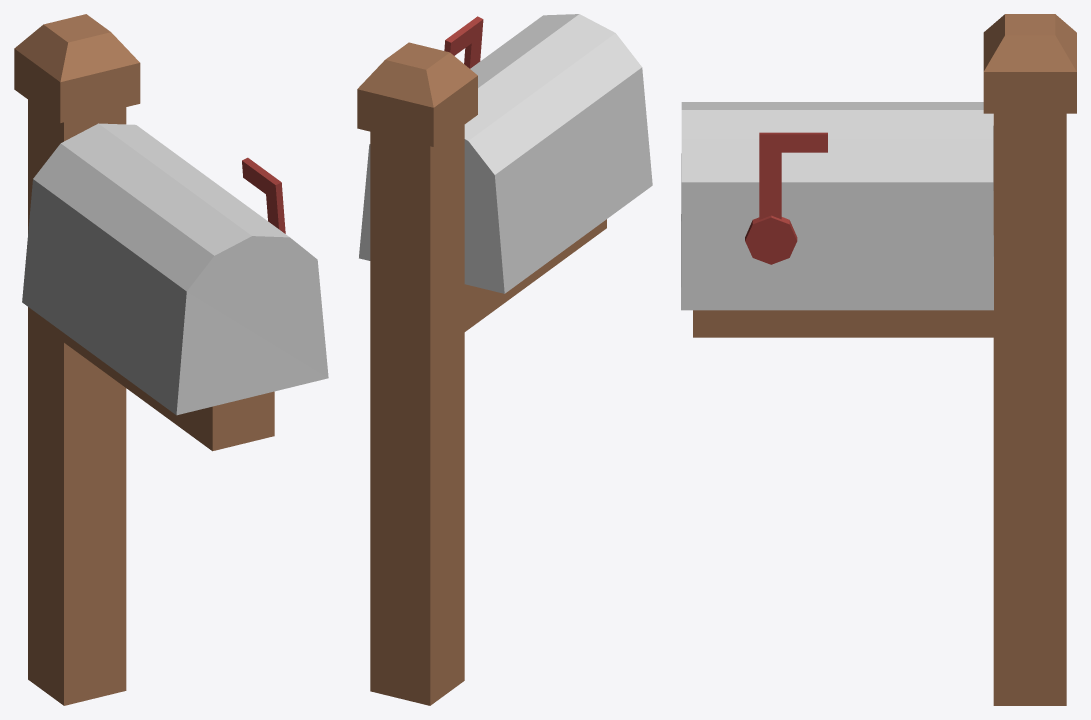
The model's file is Mailbox.fbx.
The picture shows the model from 3 angles, left to right: view 1: azimuth 30°, elevation 25°; view 2: azimuth 150°, elevation 25°; view 3: azimuth 270°, elevation 25°; orthographic projection. The views are drawn at different scales.
Visible parts, largest first — view 1: Mailbox.001, Mailbox; view 2: Mailbox, Mailbox.001; view 3: Mailbox, Mailbox.001.
Part boxes in pixels (left/top/right/bottom): Mailbox.001: left=22, top=123, right=328, bottom=415; Mailbox: left=14, top=14, right=285, bottom=705; Mailbox: left=357, top=16, right=606, bottom=705; Mailbox.001: left=359, top=14, right=652, bottom=293; Mailbox: left=693, top=14, right=1076, bottom=705; Mailbox.001: left=681, top=102, right=993, bottom=310.
Size of the model in its own units: 38.4 by 156 by 84.31.
